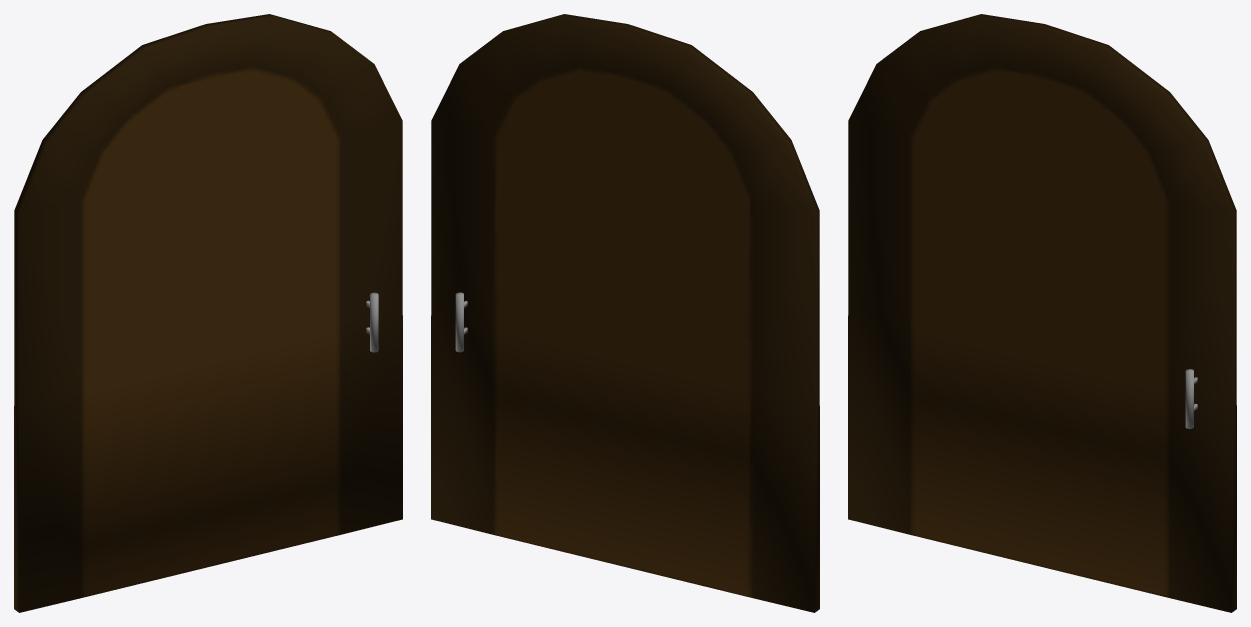
File: KHIP_Door.FBX
3 renders of one model, left to right at view 1: azimuth 30°, elevation 25°; view 2: azimuth 150°, elevation 25°; view 3: azimuth 330°, elevation 25°, orthographic.
Visible parts, largest first — view 1: KHIP_Door; view 2: KHIP_Door; view 3: KHIP_Door.
Boxes of the visible parts, box(x1,y1,x2,y2) form: KHIP_Door: box(14, 14, 402, 612); KHIP_Door: box(431, 14, 819, 612); KHIP_Door: box(848, 14, 1236, 612).
Size of the model in its own units: 67.87 by 91.07 by 6.87.
